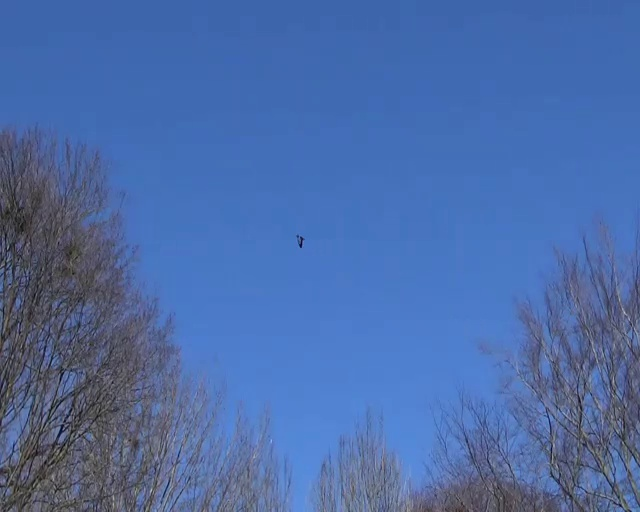BIRD: (296, 234, 305, 248)
